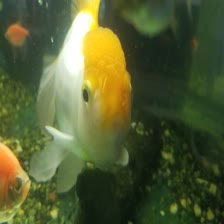Cuezo: (28, 0, 129, 193)
